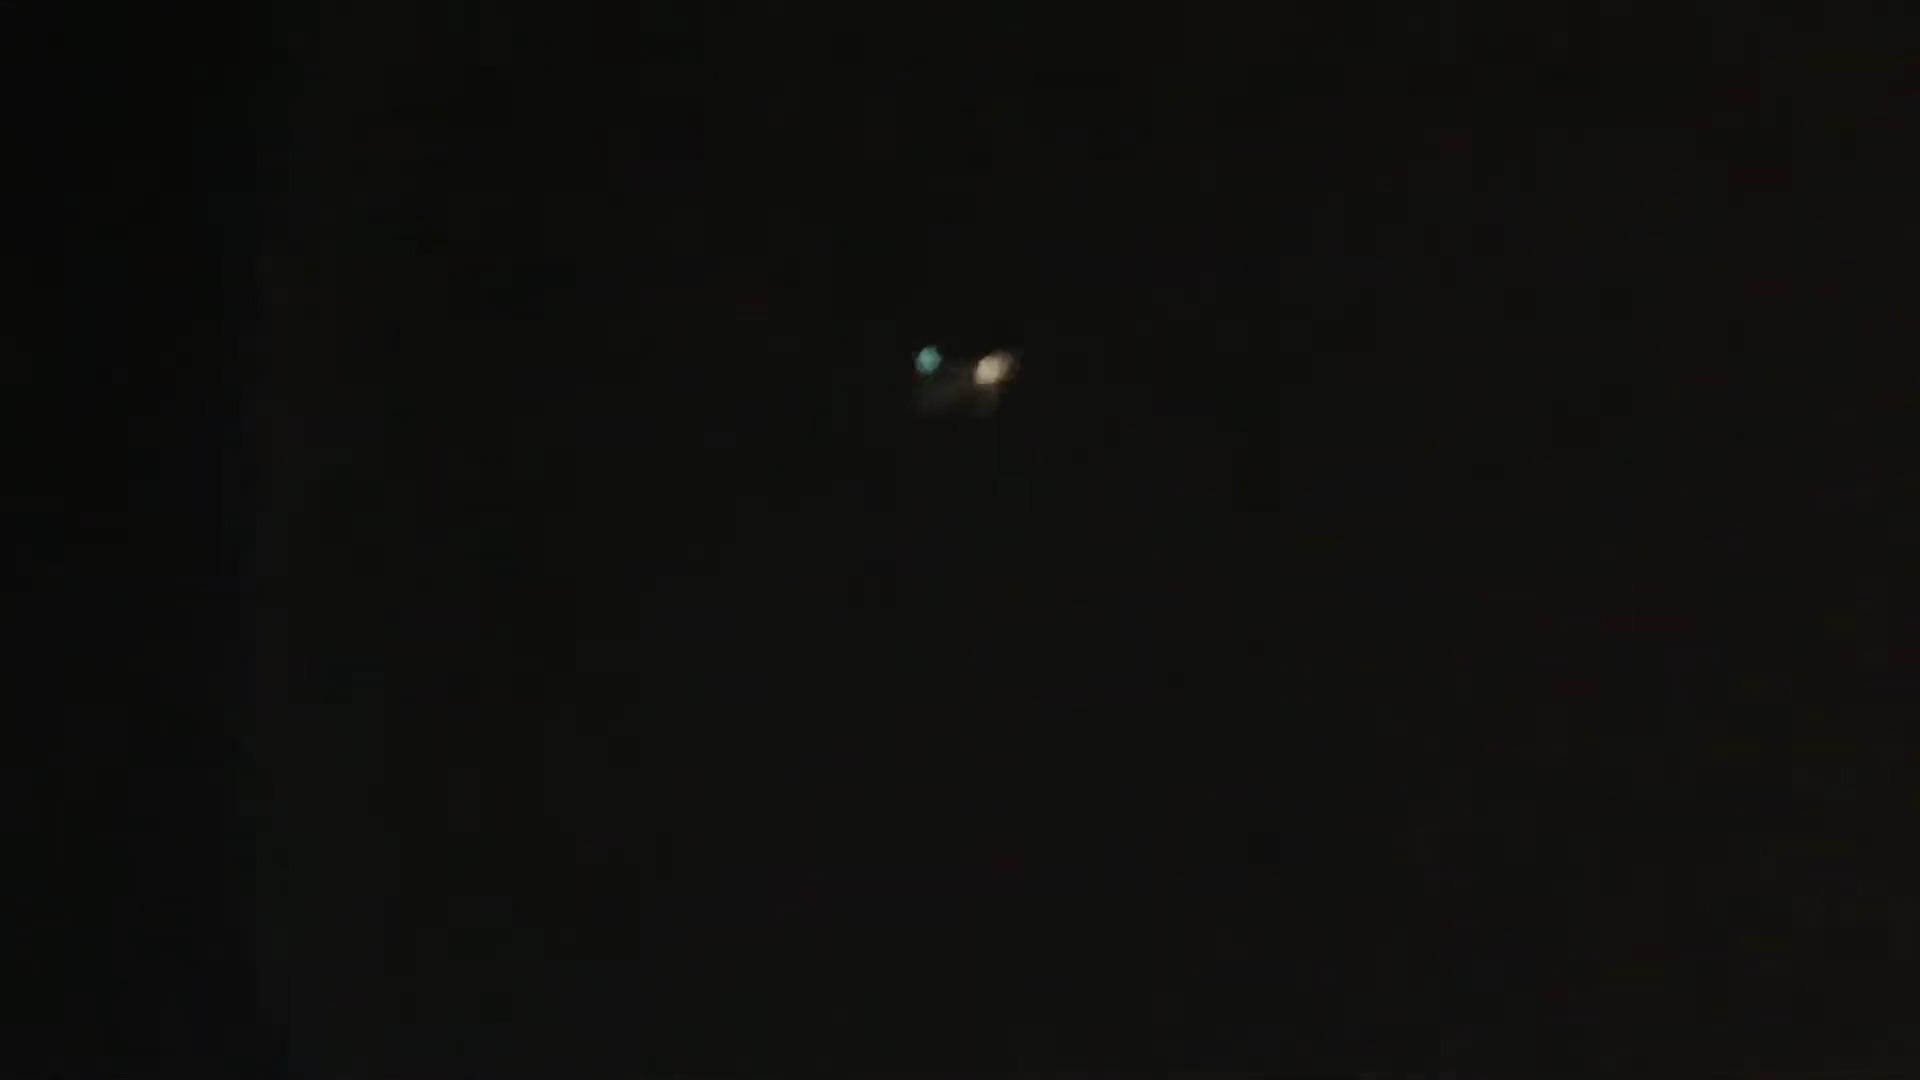Plane: (870, 323, 1075, 439)
